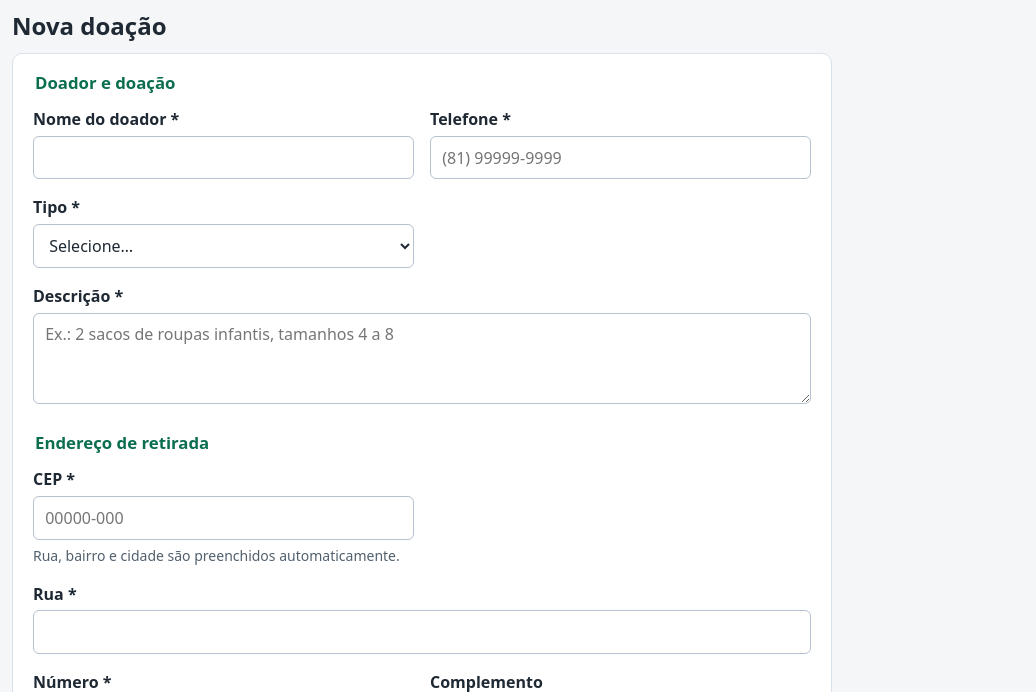
CEP não encontrado mostra mensagem clara
The width and height of the screenshot is (1036, 692).
Type "99999999" into the field labelled "CEP" at (224,518), box left=33, top=496, right=414, bottom=540
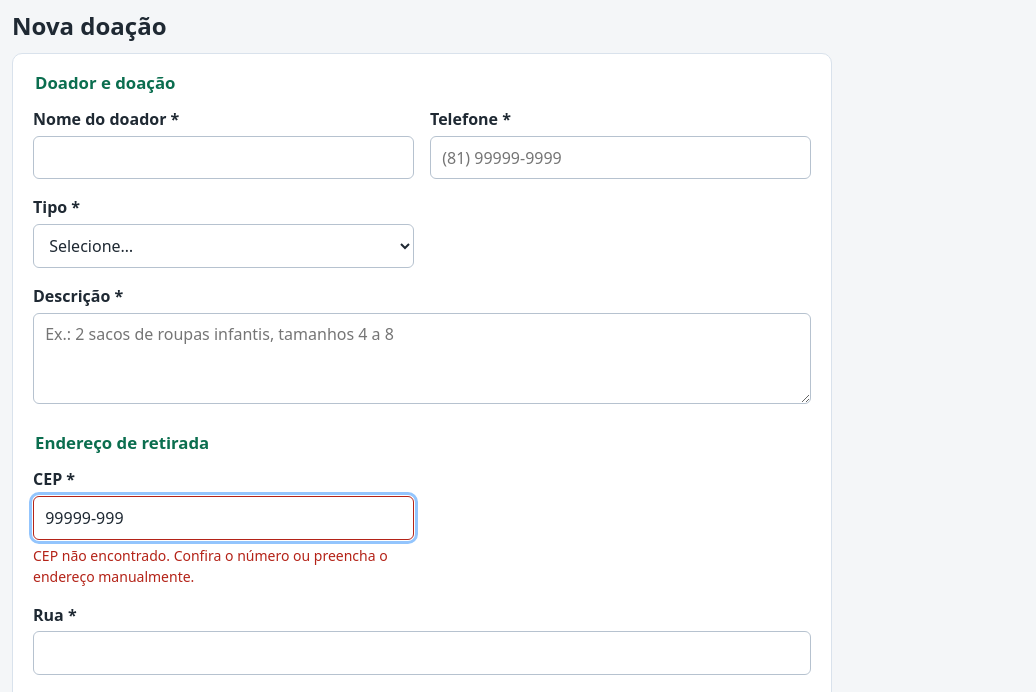
Result: the text "CEP não encontrado. Confira o número ou preencha o endereço manualmente." is shown at left=33, top=544, right=414, bottom=586
